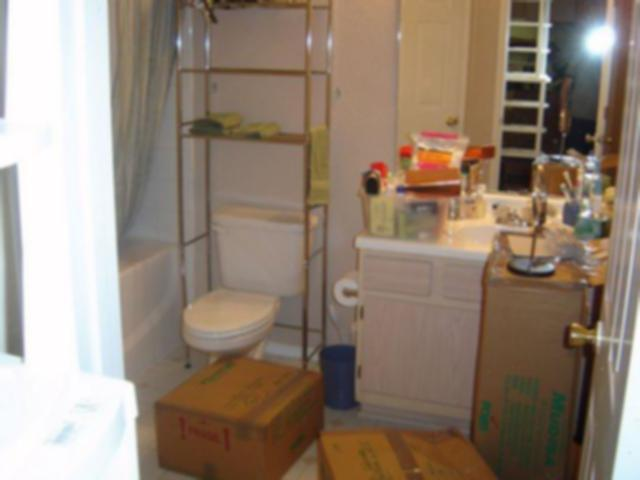Otro Obstaculo: (478, 232, 569, 480), (153, 370, 328, 480), (321, 418, 510, 480)
Sanitario: (174, 217, 319, 362)
